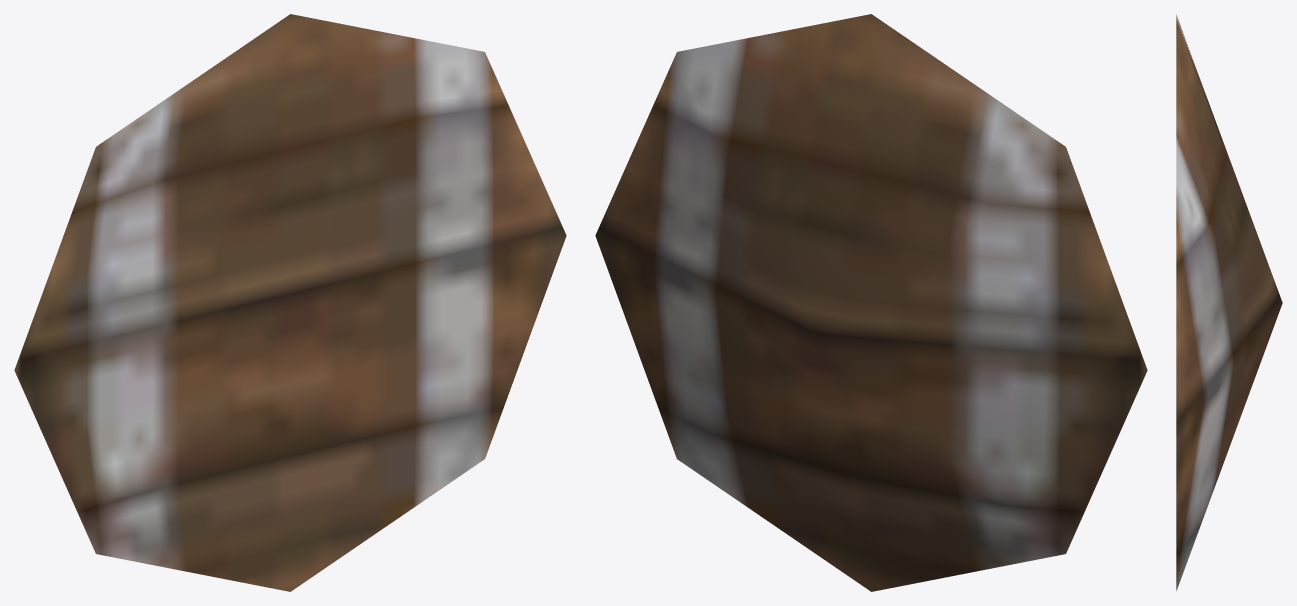
The model's file is attachments_g_shield_small_copper.glb.
The picture shows the model from 3 angles, left to right: view 1: azimuth 30°, elevation 25°; view 2: azimuth 150°, elevation 25°; view 3: azimuth 270°, elevation 25°; orthographic projection. The views are drawn at different scales.
Parts seen in each view (by area): view 1: MeshRoot; view 2: MeshRoot; view 3: MeshRoot.
Boxes of the visible parts, box(x1,y1,x2,y2) form: MeshRoot: box(14, 14, 566, 591); MeshRoot: box(595, 14, 1147, 591); MeshRoot: box(1176, 15, 1282, 590).
Bounding box in the file's own units: 0.3965 × 0.3965 × 0.0684.
1 material, 1 textured.
